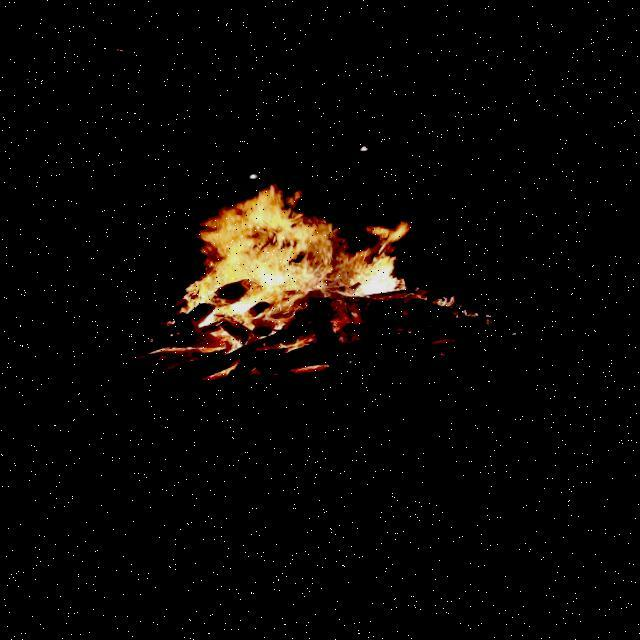Fire: (148, 173, 504, 364)
